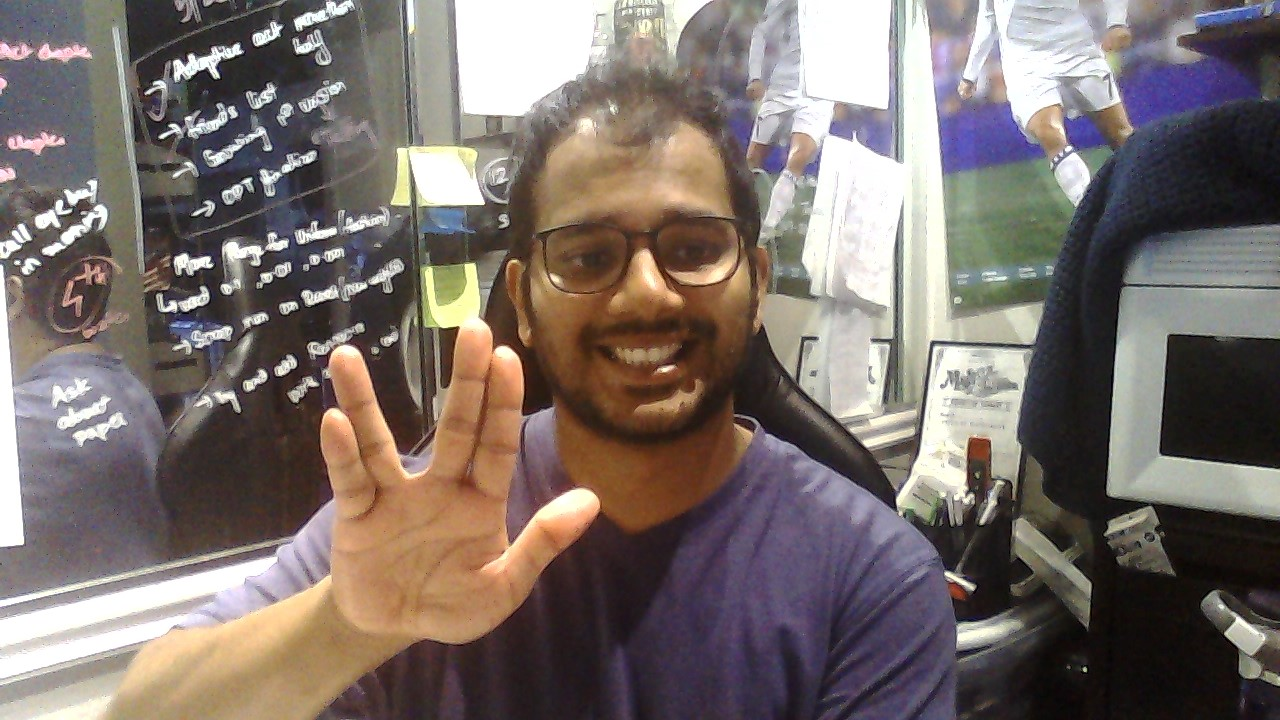LiveLong: (320, 318, 600, 645)
